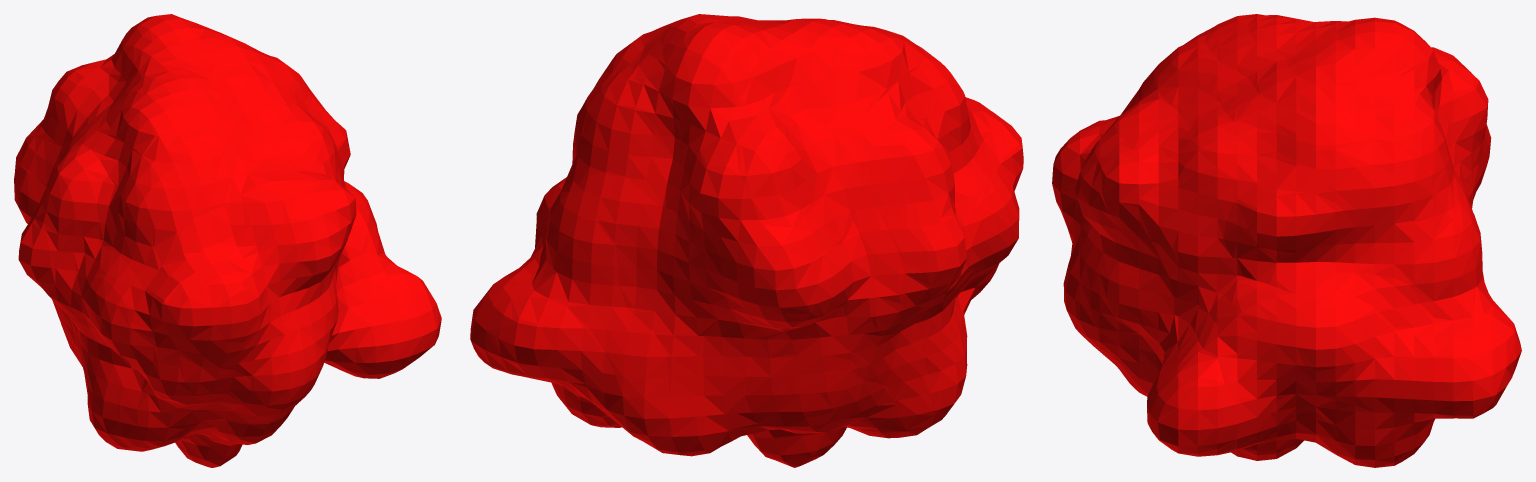
Rendered from mglC_coarse.dae.
3 renders of one model, left to right at view 1: azimuth 30°, elevation 25°; view 2: azimuth 150°, elevation 25°; view 3: azimuth 270°, elevation 25°, orthographic. The views are drawn at different scales.
Parts seen in each view (by area): view 1: mglC; view 2: mglC; view 3: mglC.
Boxes of the visible parts, x1=… form: mglC: x1=14, y1=14, x2=441, y2=467; mglC: x1=470, y1=14, x2=1023, y2=467; mglC: x1=1052, y1=14, x2=1521, y2=467.
Bounding box in the file's own units: 51.74 × 54.78 × 52.73.
